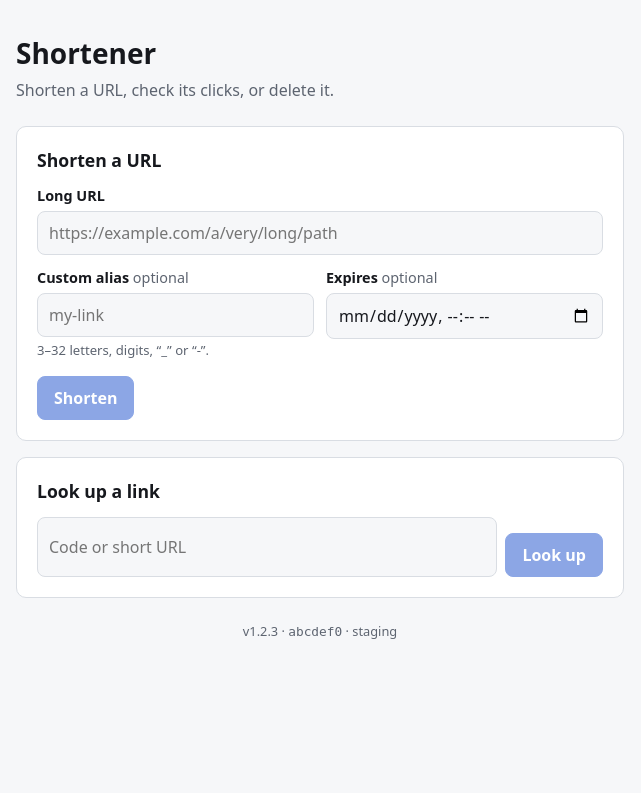
it: looking up a link › deletes after confirmation
Type "promo" into the field named "Short code or URL" at (267, 547), box x1=37 y1=517 x2=497 y2=577
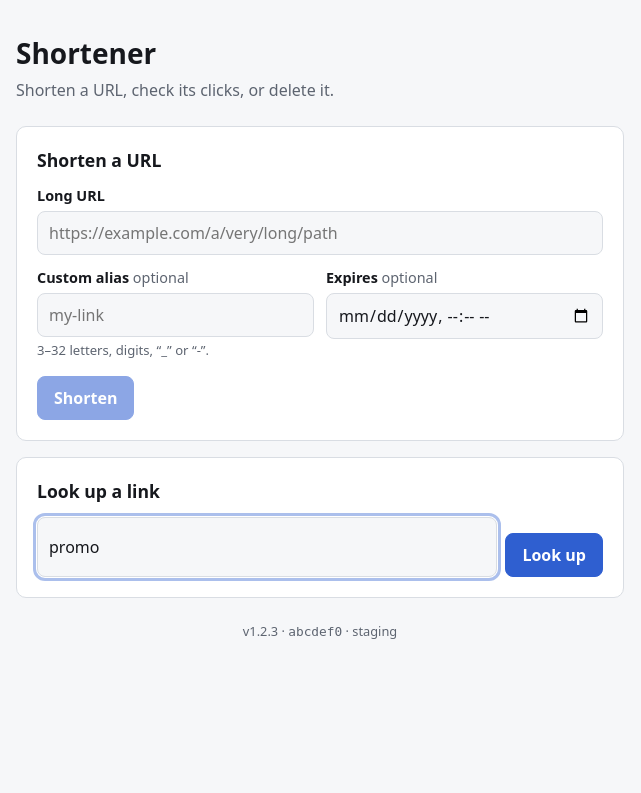
Click the button "Look up" at (554, 555), box x1=505 y1=533 x2=603 y2=577
(page scrolled)
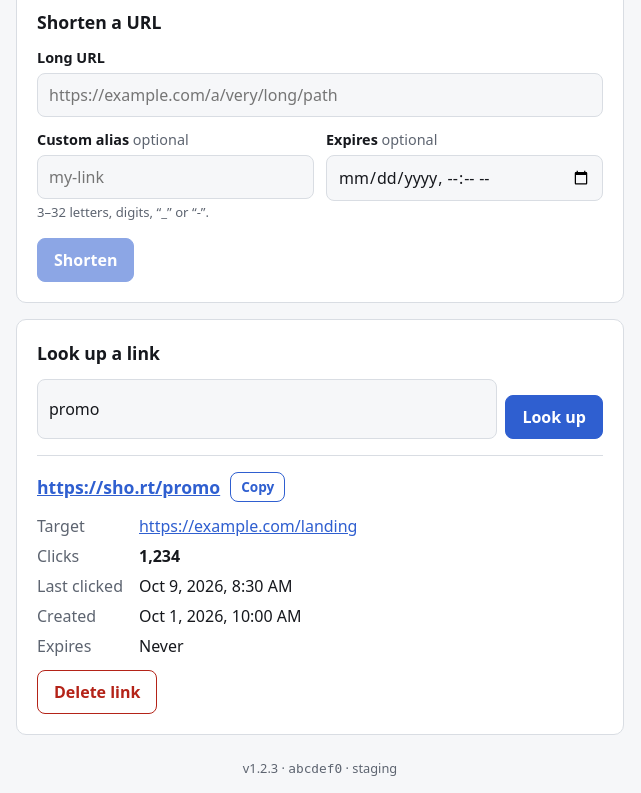
Click the button "Delete link" at (97, 692), box x1=37 y1=670 x2=157 y2=714
(page scrolled)
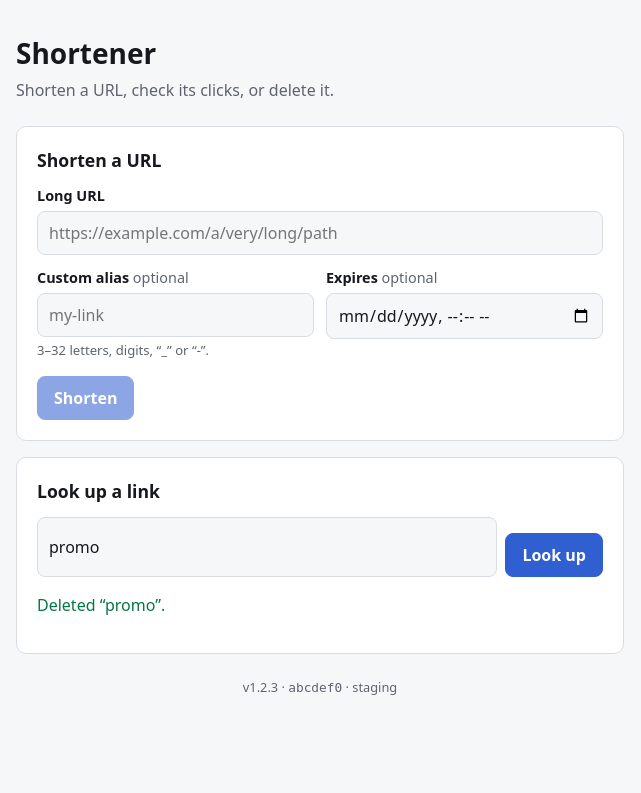
Expected: the text "Deleted “promo”." is shown, x1=37 y1=594 x2=165 y2=616
